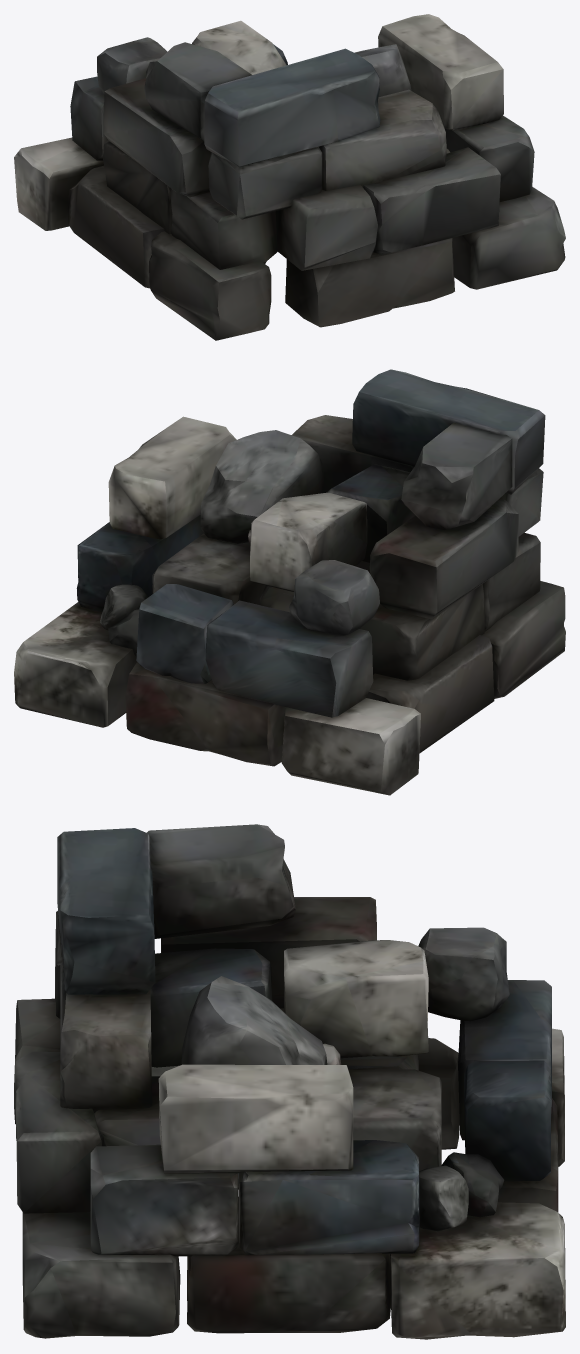
Rendered from rubble.glb.
3 views of the same model, one above another, from view 1: azimuth 30°, elevation 25°; view 2: azimuth 150°, elevation 25°; view 3: azimuth 270°, elevation 25° (orthographic). The views are drawn at different scales.
Visible parts, largest first — view 1: model; view 2: model; view 3: model.
Part boxes in pixels (left/top/right/bottom): model: left=14, top=14, right=565, bottom=340; model: left=14, top=369, right=565, bottom=795; model: left=14, top=824, right=565, bottom=1339.
Bounding box in the file's own units: 1.6 × 1 × 1.6.
1 material, 1 textured.
